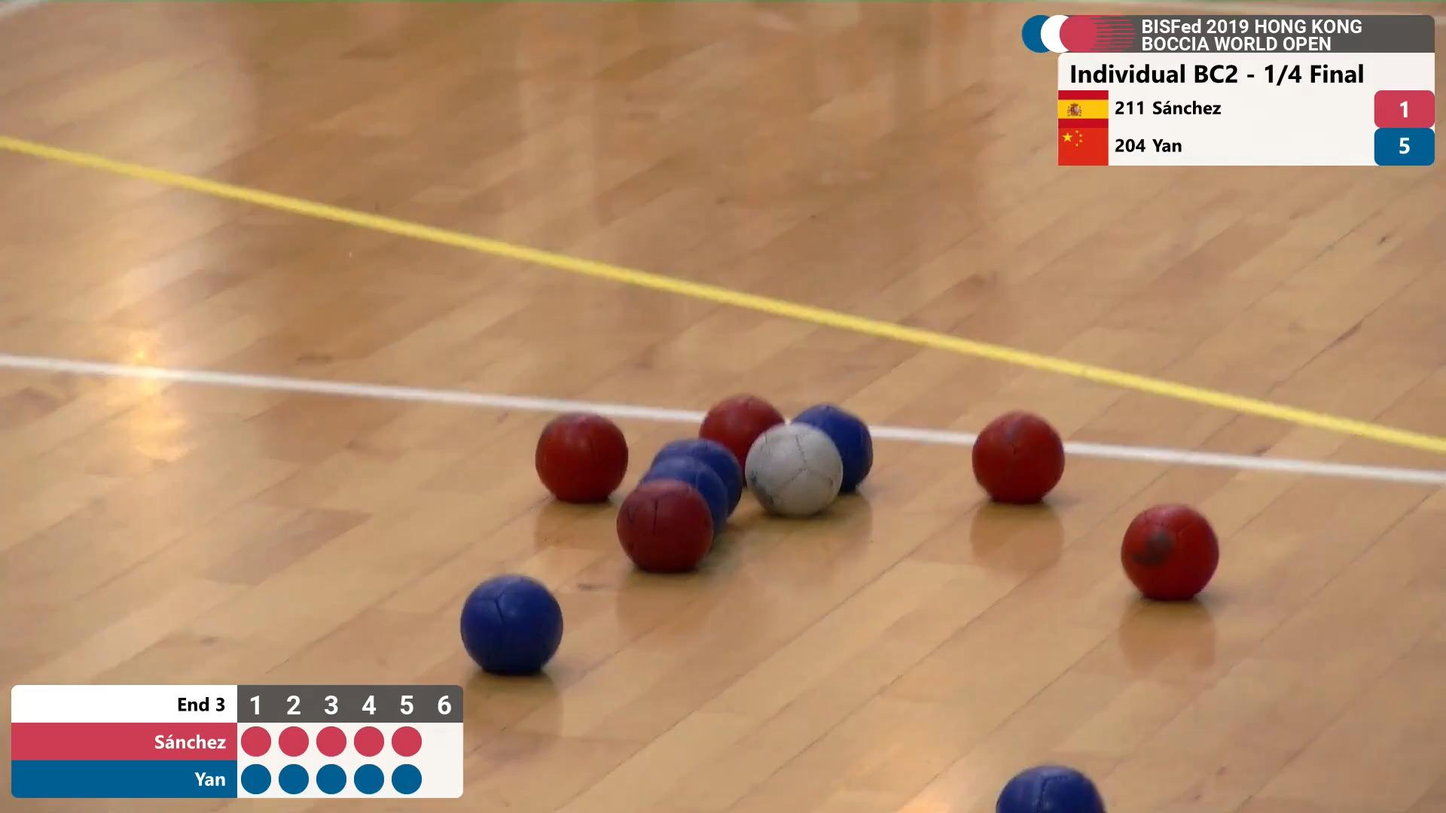blue_ball: (452, 569, 568, 686)
red_ball: (1111, 495, 1227, 613), (526, 402, 637, 510), (613, 476, 720, 586), (965, 404, 1073, 512), (689, 390, 792, 483)
white_ball: (740, 418, 849, 523)
